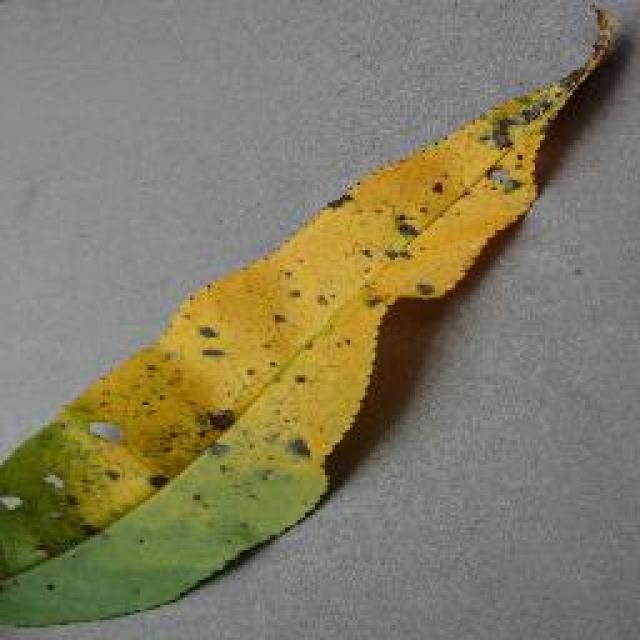Peach_Bacterial_Spot: (117, 155, 615, 475)
